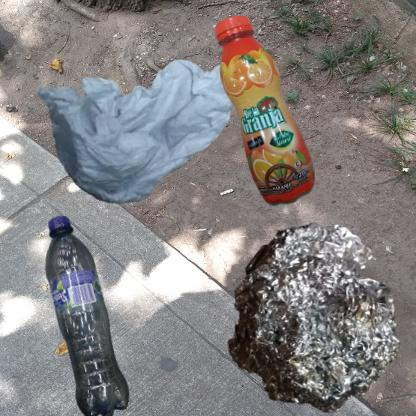aluminio: (213, 213, 411, 416)
botella: (10, 213, 177, 416), (213, 10, 322, 219)
papel: (10, 10, 262, 246)
